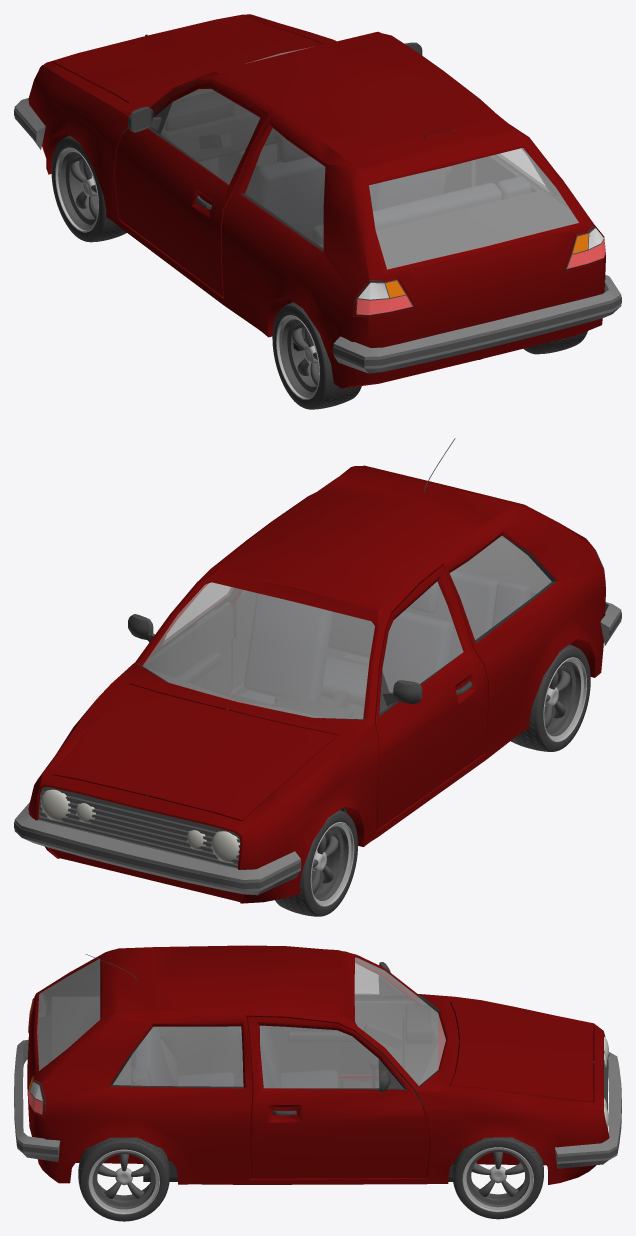
The model's file is golf2.glb.
3 renders of one model, top to bottom at view 1: azimuth 30°, elevation 25°; view 2: azimuth 150°, elevation 25°; view 3: azimuth 270°, elevation 25°, orthographic. The views are drawn at different scales.
Parts seen in each view (by area): view 1: body, wheel_RL, wheel_FL, lamp_tail_L, wheel_RR; view 2: body, wheel_RL, wheel_FL, lamp_head_R, lamp_head_L; view 3: body, wheel_RR, wheel_FR.
Boxes of the visible parts, x1=… form: body: x1=14, y1=14, x2=621, y2=388; wheel_RL: x1=272, y1=302, x2=361, y2=409; wheel_FL: x1=51, y1=135, x2=126, y2=242; lamp_tail_L: x1=356, y1=295, x2=412, y2=314; wheel_RR: x1=523, y1=331, x2=587, y2=354; body: x1=14, y1=438, x2=621, y2=903; wheel_RL: x1=510, y1=644, x2=590, y2=751; wheel_FL: x1=275, y1=810, x2=357, y2=916; lamp_head_R: x1=41, y1=789, x2=95, y2=823; lamp_head_L: x1=186, y1=830, x2=240, y2=862; body: x1=14, y1=945, x2=621, y2=1184; wheel_RR: x1=78, y1=1137, x2=169, y2=1221; wheel_FR: x1=452, y1=1137, x2=543, y2=1219.
Size of the model in its own units: 1.82 by 1.56 by 3.99.
